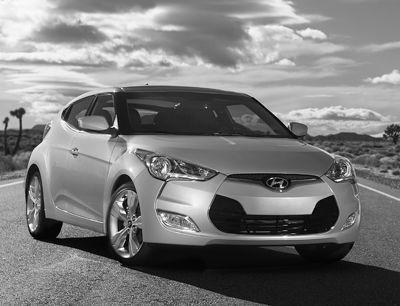car: (22, 80, 364, 268)
